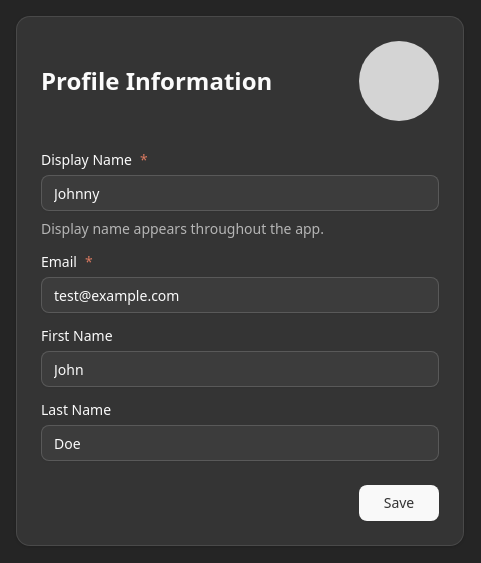
Test: Account › Form Validation › shows validation error for empty required fields
# Data is pre-loaded by route loader
Clear the field labelled "Display Name" at (240, 193), box 41,175 -> 439,211
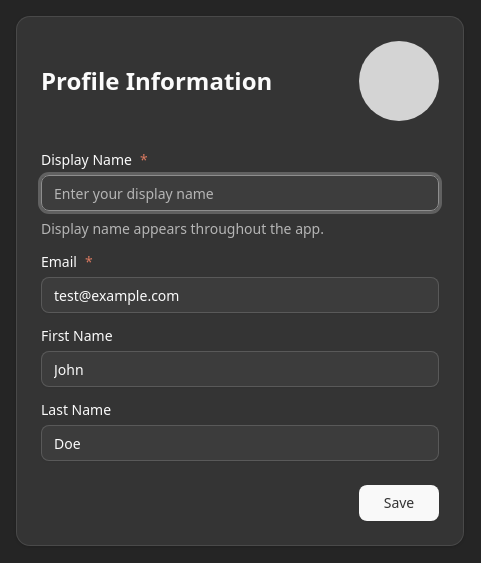
Press Tab
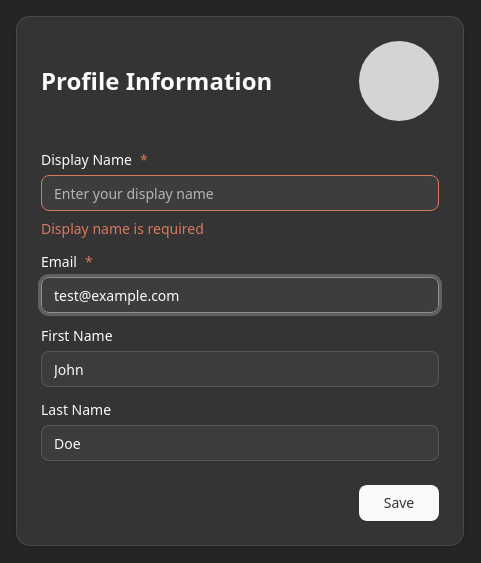
Expected: the text "Display name is required" is shown, 41,219 -> 204,238
